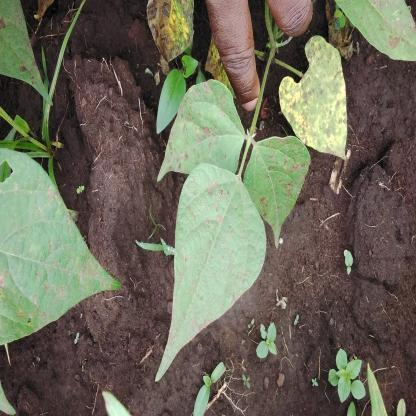Beans_Angular_LeafSpot: (1, 148, 121, 341), (172, 164, 266, 360), (158, 70, 245, 199), (278, 37, 352, 171), (248, 138, 310, 242), (331, 0, 416, 60), (148, 0, 195, 60)
